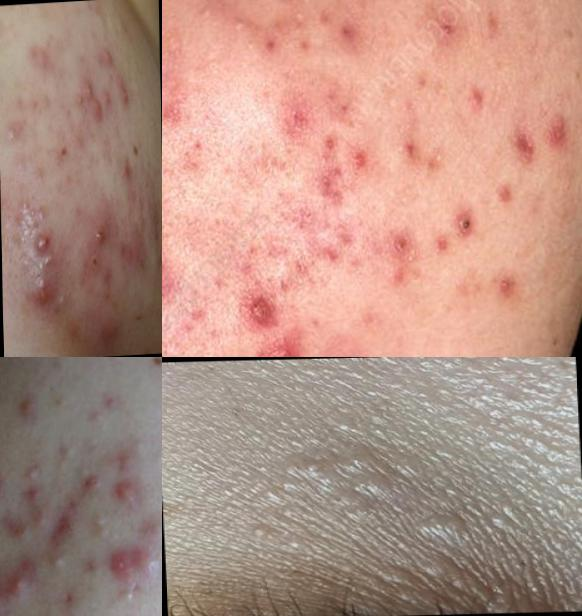cystic: (26, 271, 53, 309)
milium: (277, 451, 330, 481), (233, 512, 273, 548)
papular: (253, 101, 378, 269), (100, 536, 163, 585), (423, 3, 472, 58), (237, 283, 287, 325), (101, 477, 150, 518), (1, 558, 38, 609), (509, 125, 545, 175), (252, 330, 312, 358), (8, 388, 51, 427), (384, 226, 419, 273), (544, 108, 574, 151), (71, 464, 109, 497), (106, 449, 139, 483), (454, 206, 483, 244), (85, 210, 111, 252), (163, 245, 179, 307), (1, 518, 31, 547), (22, 479, 51, 508), (85, 98, 109, 129), (113, 73, 131, 108), (75, 79, 95, 110), (100, 45, 113, 72), (1, 577, 9, 616)
purulent: (38, 223, 51, 258)
syringoma: (330, 542, 506, 613), (284, 475, 396, 518), (393, 506, 473, 545)
whitehead: (43, 529, 84, 572), (281, 1, 315, 43), (85, 507, 120, 543), (24, 447, 48, 486), (225, 8, 249, 41), (84, 403, 114, 428), (53, 440, 79, 467), (53, 272, 71, 310), (118, 579, 139, 609), (129, 433, 153, 459), (426, 144, 447, 168), (36, 195, 52, 226), (30, 158, 44, 186), (148, 446, 163, 467), (1, 443, 8, 471), (1, 609, 24, 616), (201, 5, 211, 19), (320, 157, 328, 165)
